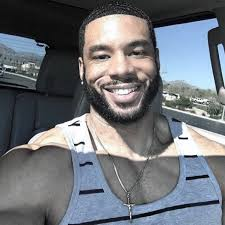black_male: (81, 1, 164, 111)
